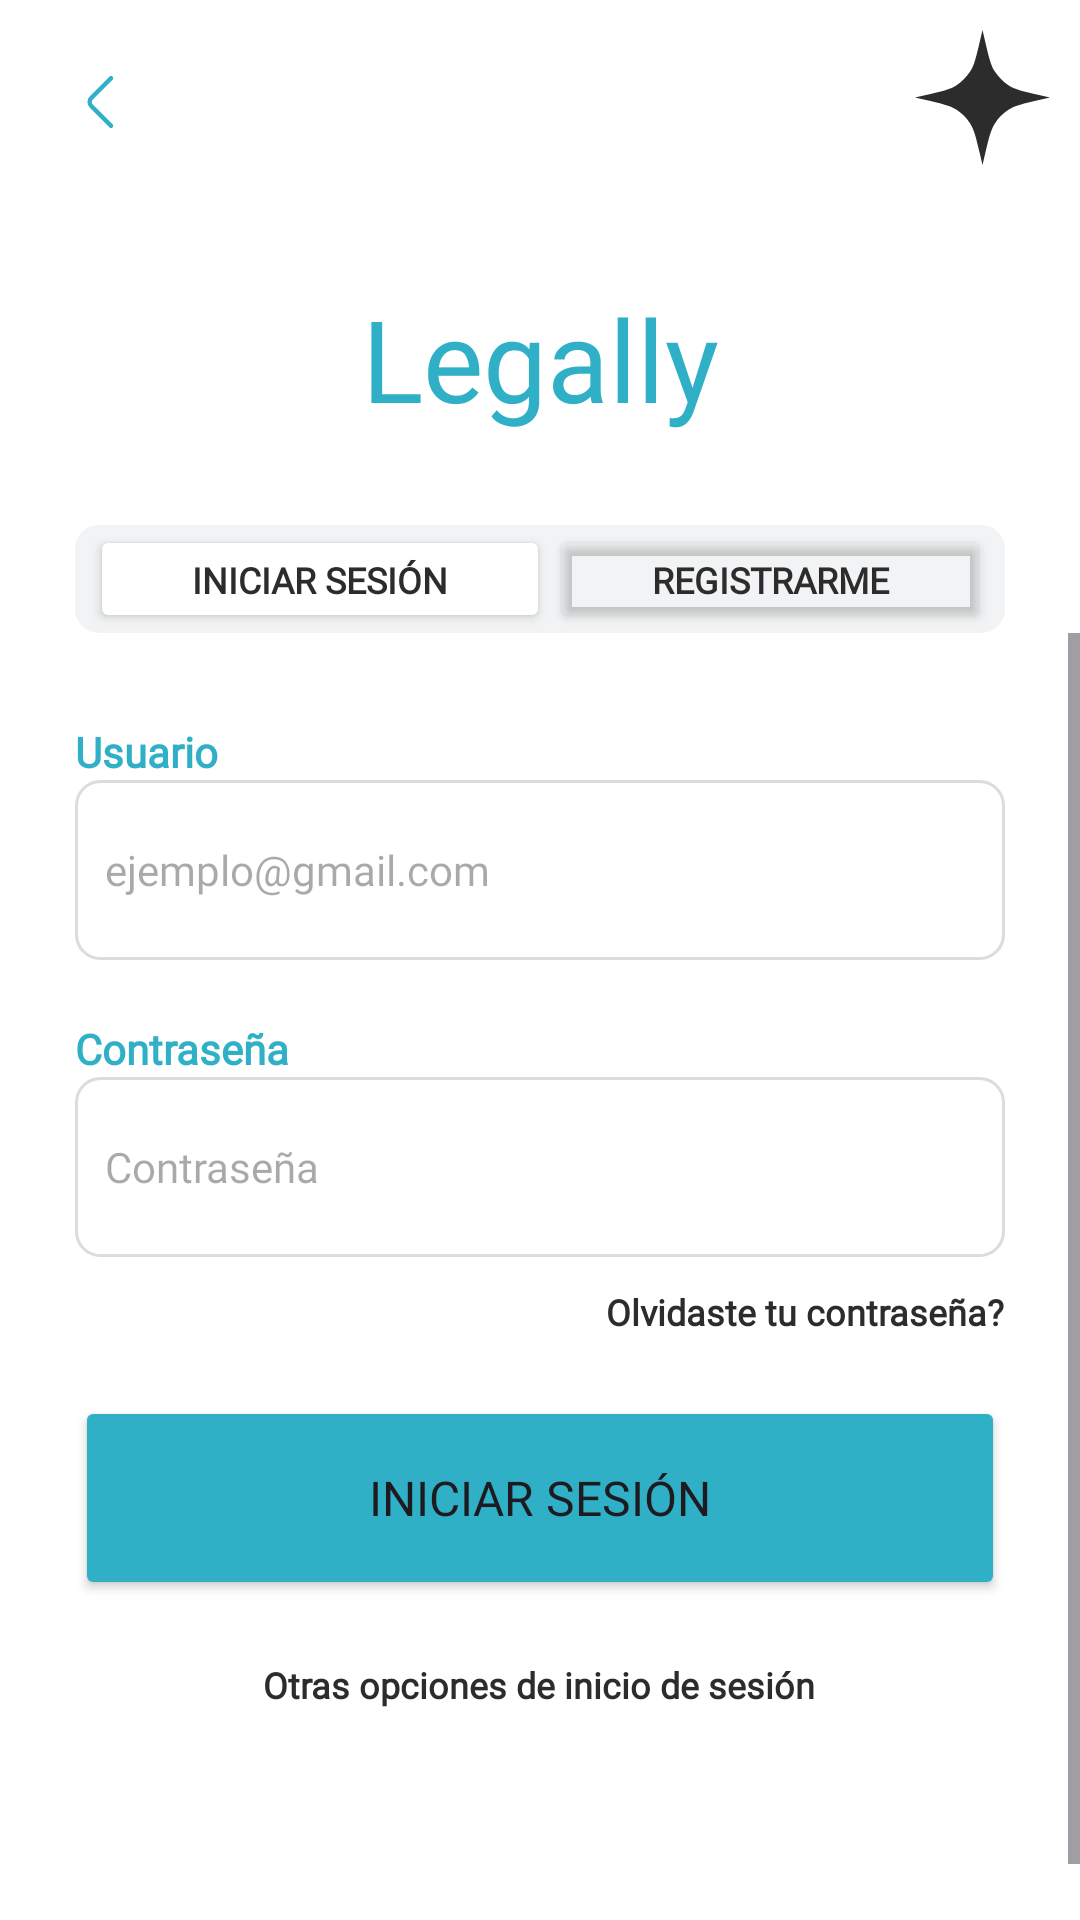

Where icons sit on this 1080x1920 app screen, as (x1, y1, x2, y2):
back: (87, 76, 114, 128)
star: (915, 30, 1050, 165)
